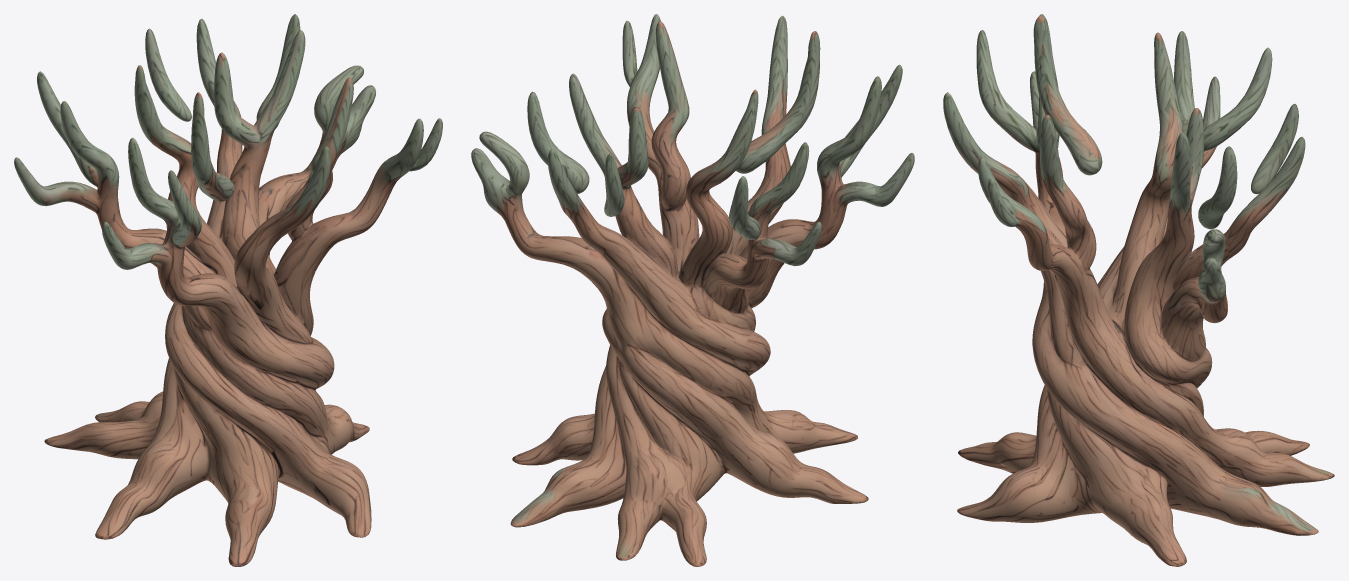
The model's file is prop_olive_tree_v1_bad.glb.
3 views of the same model, side by side, from view 1: azimuth 30°, elevation 25°; view 2: azimuth 150°, elevation 25°; view 3: azimuth 270°, elevation 25° (orthographic). The views are drawn at different scales.
Visible parts, largest first — view 1: material; view 2: material; view 3: material.
Boxes of the visible parts, x1,y1,x2,y2 form: material: (14,14,442,566); material: (471,14,914,566); material: (943,14,1334,566).
Size of the model in its own units: 0.7845 by 0.9265 by 0.7474.
1 material, 1 textured.
